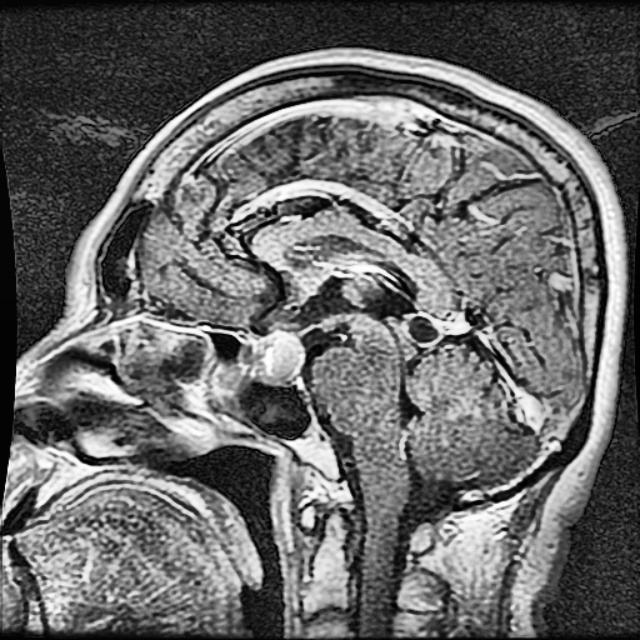Pituitary: (259, 332, 302, 380)
